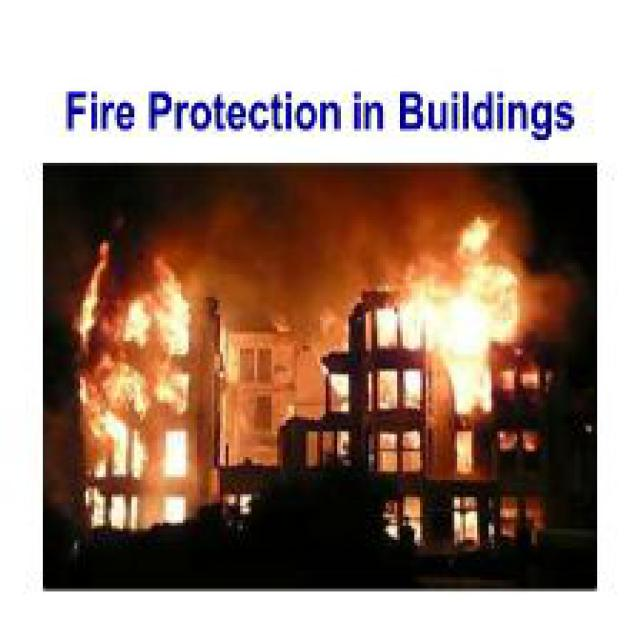fire: (368, 206, 532, 423), (71, 226, 206, 483)
